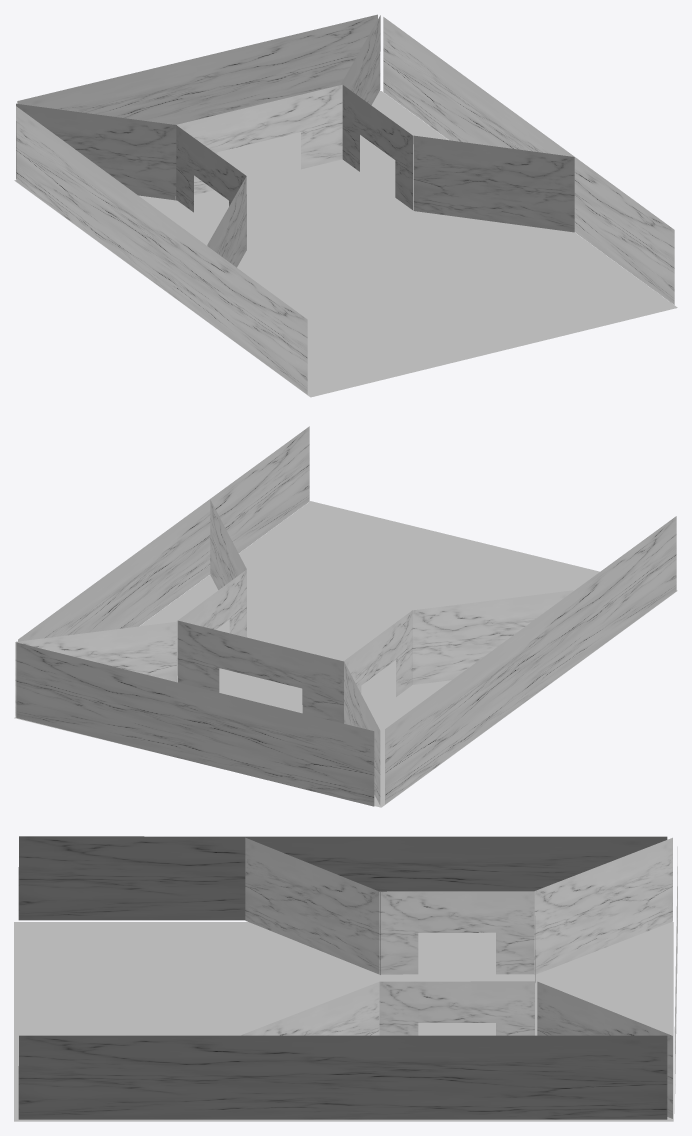
Rendered from salas.obj.
3 views of the same model, one above another, from view 1: azimuth 30°, elevation 25°; view 2: azimuth 150°, elevation 25°; view 3: azimuth 270°, elevation 25° (orthographic). The views are drawn at different scales.
Parts seen in each view (by area): view 1: Plane001, Plane014, Plane015, Plane016, Plane010, Plane003, Plane013, Plane012, Plane006, Plane009, Plane011; view 2: Plane001, Plane016, Plane014, Plane015, Plane013, Plane009, Plane011, Plane006, Plane012, Plane010, Plane003; view 3: Plane015, Plane001, Plane014, Plane003, Plane009, Plane006, Plane012, Plane011, Plane010, Plane016.
Boxes of the visible parts, box(x1,y1,x2,y2) form: Plane001: box(14, 91, 677, 397); Plane014: box(16, 106, 307, 394); Plane015: box(383, 17, 674, 304); Plane016: box(17, 14, 377, 124); Plane010: box(413, 135, 574, 232); Plane003: box(16, 103, 176, 200); Plane013: box(175, 84, 342, 199); Plane012: box(342, 85, 412, 209); Plane006: box(176, 125, 246, 250); Plane009: box(207, 176, 246, 267); Plane011: box(341, 15, 380, 105); Plane001: box(14, 501, 677, 807); Plane016: box(16, 642, 374, 806); Plane014: box(385, 516, 676, 804); Plane015: box(18, 426, 309, 641); Plane013: box(177, 620, 343, 723); Plane009: box(412, 590, 573, 684); Plane011: box(15, 621, 176, 716); Plane006: box(344, 610, 412, 696); Plane012: box(177, 569, 246, 682); Plane010: box(210, 500, 246, 589); Plane003: box(344, 661, 380, 805); Plane015: box(18, 1035, 667, 1119); Plane001: box(14, 922, 673, 1121); Plane014: box(18, 836, 667, 920); Plane003: box(534, 837, 672, 974); Plane009: box(245, 837, 380, 974); Plane006: box(379, 891, 534, 974); Plane012: box(379, 981, 534, 1035); Plane011: box(537, 981, 672, 1118); Plane010: box(241, 982, 378, 1035); Plane016: box(674, 846, 677, 1113).
Size of the model in its own units: 701 by 140 by 985.
